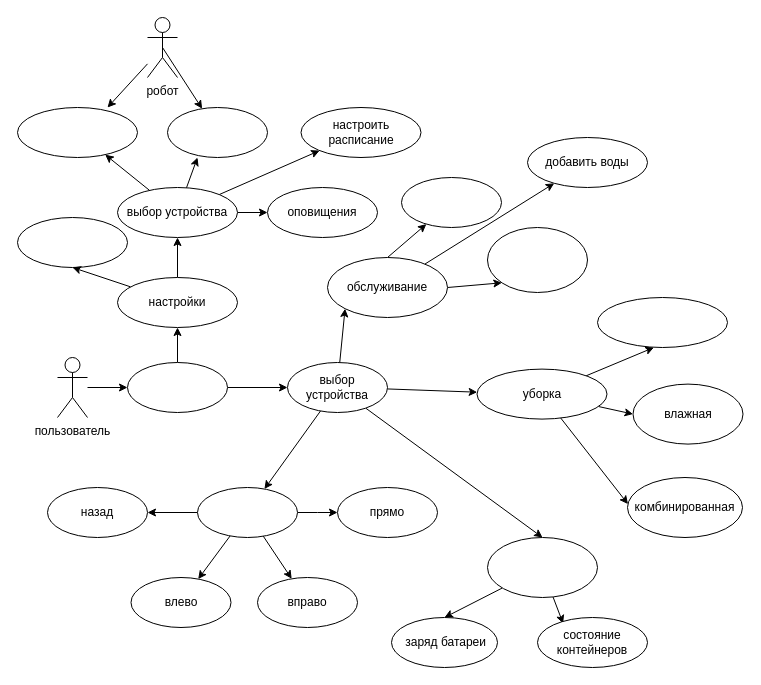
This 761x685 diagram has some shape labels left out. The centre of each missing label's shape, as x and y in pixels:
"добавление устройства" belongs at (x=72, y=242).
"заменить счетки" belongs at (x=451, y=202).
"обновление карт" belongs at (x=77, y=132).
"очистить контейнер" belongs at (x=537, y=259).
"подключение" belongs at (x=177, y=387).
"получить обновление" belongs at (x=217, y=132).
"ручное управление" belongs at (x=247, y=512).
"состояние" belongs at (x=542, y=567).
"сухая" belongs at (x=662, y=322).
